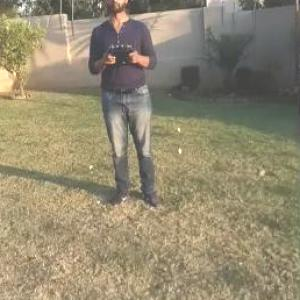follow: (85, 0, 167, 219)
